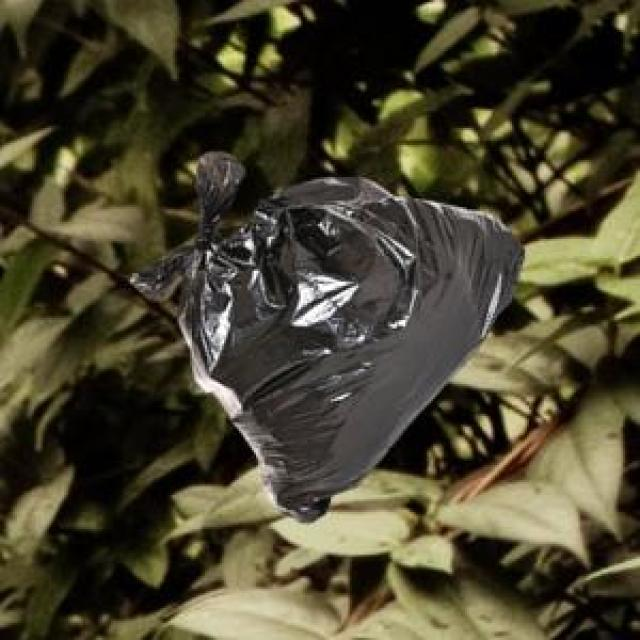Trashbag: (175, 170, 530, 532)
